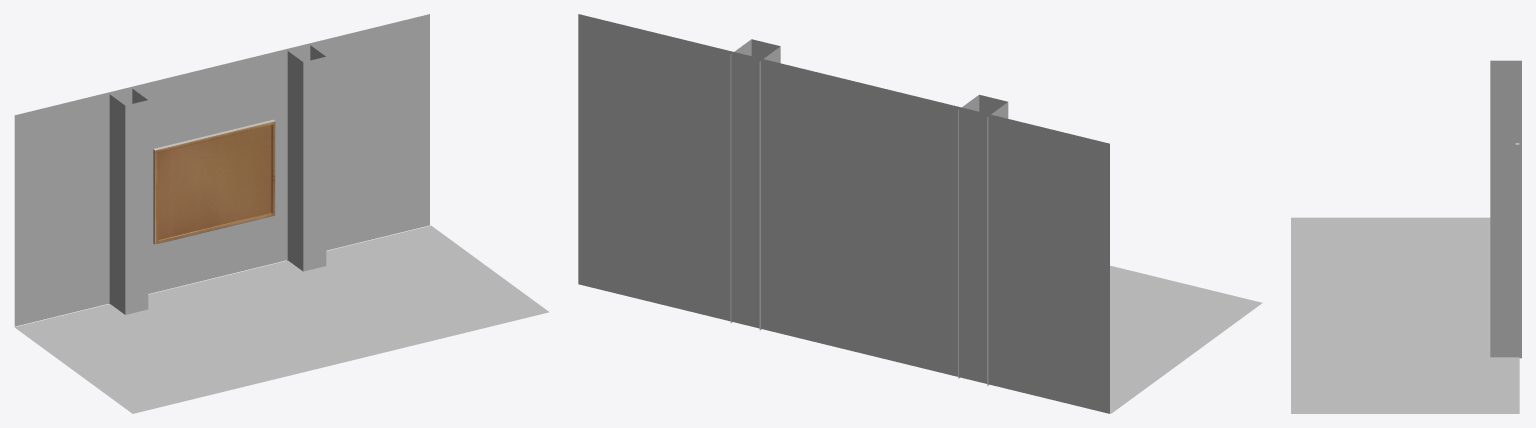
Rendered from MENU_FBX.fbx.
3 renders of one model, left to right at view 1: azimuth 30°, elevation 25°; view 2: azimuth 150°, elevation 25°; view 3: azimuth 270°, elevation 25°, orthographic. The views are drawn at different scales.
Visible parts, largest first — view 1: polySurface1, polySurface2, pCube2, pCube4, pCube3; view 2: polySurface1, polySurface2, pCube4, pCube3; view 3: polySurface2, pCube4, pCube3.
Part boxes in pixels (bbox=[...]): polySurface1: bbox=[14, 14, 429, 326]; polySurface2: bbox=[14, 225, 549, 413]; pCube2: bbox=[153, 119, 275, 244]; pCube4: bbox=[287, 45, 326, 271]; pCube3: bbox=[109, 89, 148, 314]; polySurface1: bbox=[578, 14, 1109, 413]; polySurface2: bbox=[1110, 265, 1262, 413]; pCube4: bbox=[730, 39, 780, 330]; pCube3: bbox=[958, 94, 1008, 385]; polySurface2: bbox=[1291, 217, 1519, 413]; pCube4: bbox=[1490, 144, 1521, 358]; pCube3: bbox=[1490, 60, 1521, 144].
Bounding box in the file's own units: 10.63 × 5.17 × 5.28.
